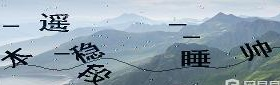chinese: (179, 48, 211, 71), (39, 12, 67, 35), (243, 39, 271, 61), (71, 42, 103, 61), (81, 65, 110, 85), (4, 47, 31, 67)
